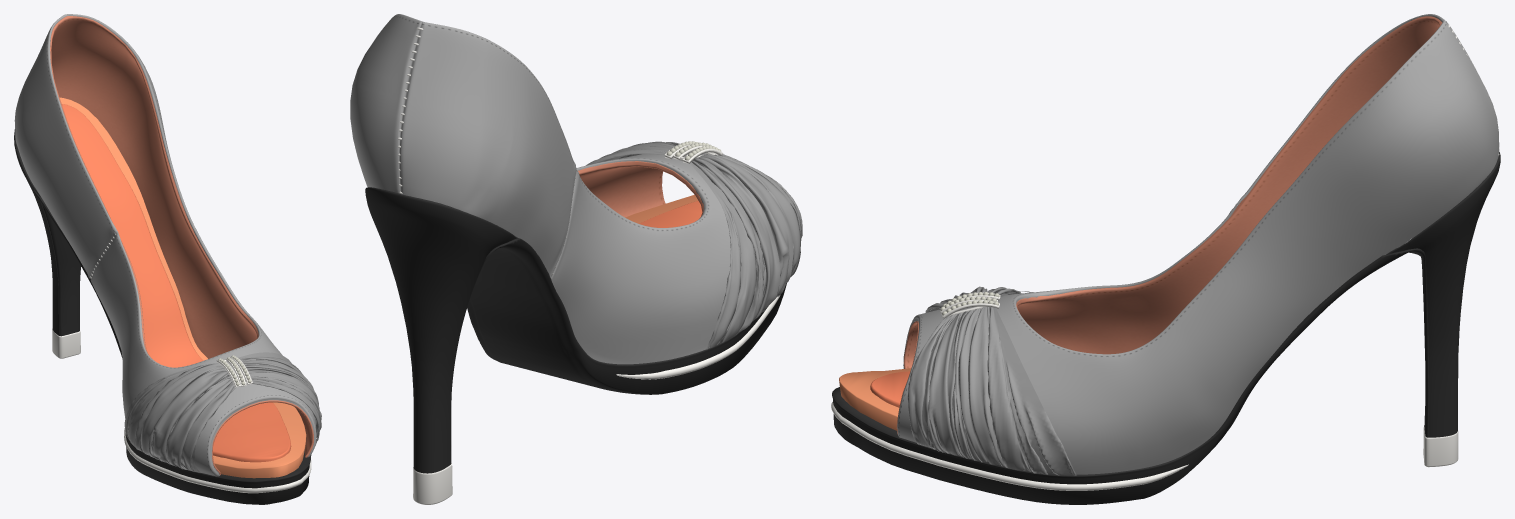
Rendered from HighHeel_sheen.gltf.
The picture shows the model from 3 angles, left to right: view 1: azimuth 30°, elevation 25°; view 2: azimuth 150°, elevation 25°; view 3: azimuth 270°, elevation 25°; orthographic projection. The views are drawn at different scales.
Visible parts, largest first — view 1: HighHeel (×8); view 2: HighHeel (×7); view 3: HighHeel (×7).
Part boxes in pixels (x1,y1,x2,y2): HighHeel (×8): (14,14,321,504); HighHeel (×7): (350,14,802,504); HighHeel (×7): (831,14,1500,504).
Size of the model in its own units: 9.98 by 19.09 by 26.22.
8 materials, 8 textured.
